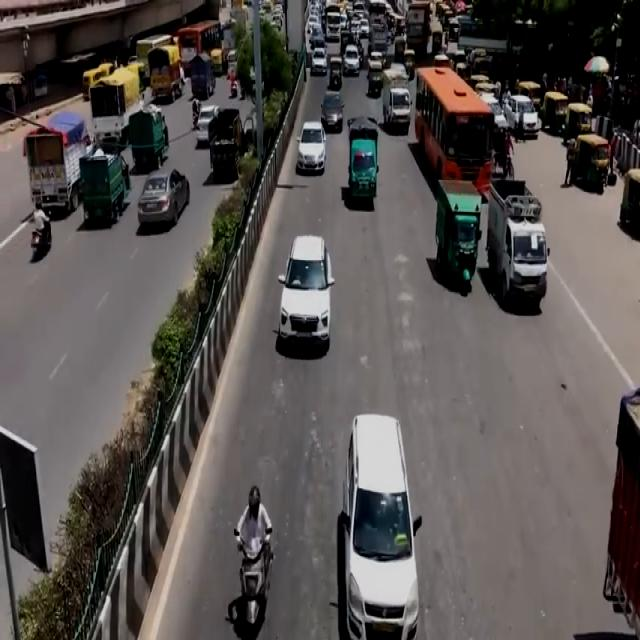BUS: (412, 69, 494, 195), (407, 2, 435, 54)
MOTORCYCLE: (237, 534, 271, 639)
TRUCK: (488, 180, 548, 311), (28, 108, 88, 220), (85, 63, 141, 153), (146, 36, 182, 102)
